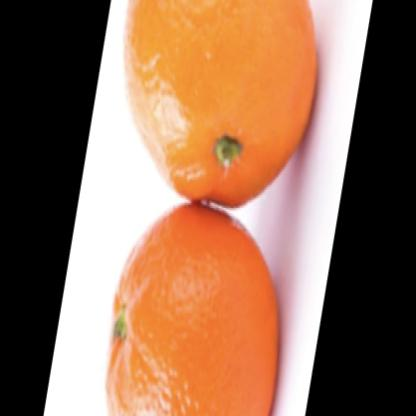fresh: (105, 1, 317, 416)
